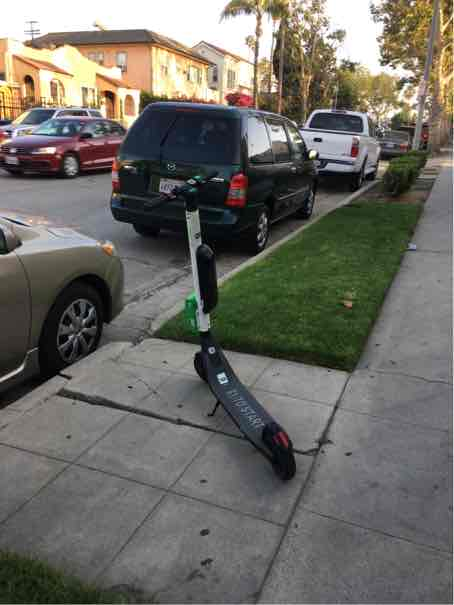scooter: (123, 163, 304, 485)
